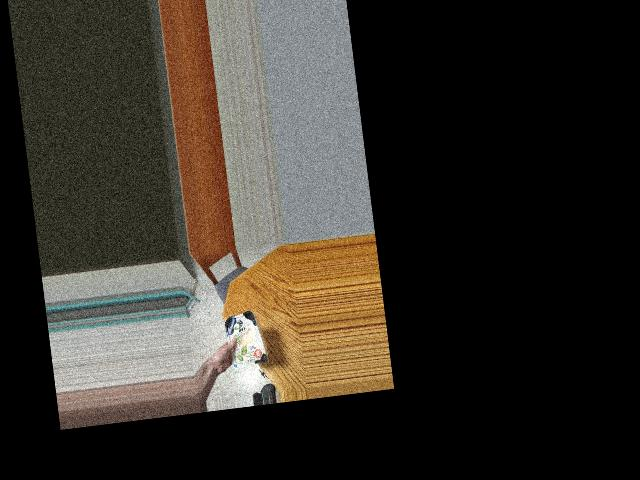cheese: (217, 313, 265, 361)
